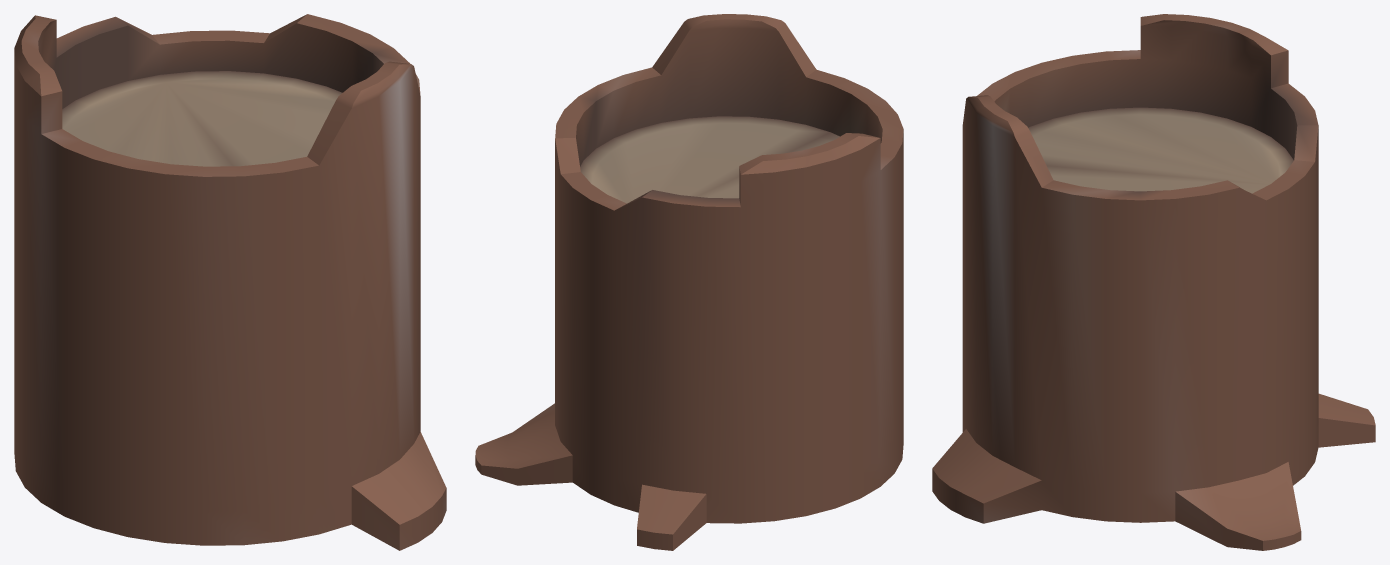
Rendered from TroncoCortado.fbx.
3 views of the same model, side by side, from view 1: azimuth 30°, elevation 25°; view 2: azimuth 150°, elevation 25°; view 3: azimuth 270°, elevation 25° (orthographic). The views are drawn at different scales.
Parts seen in each view (by area): view 1: Troncocortado; view 2: Troncocortado; view 3: Troncocortado.
Part boxes in pixels (x1=…): Troncocortado: x1=14, y1=14, x2=446, y2=550; Troncocortado: x1=475, y1=14, x2=903, y2=550; Troncocortado: x1=932, y1=14, x2=1375, y2=550.
Size of the model in its own units: 226 by 241 by 249.
